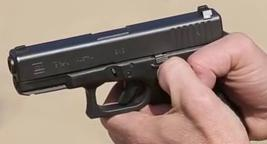gun: (1, 1, 267, 144)
